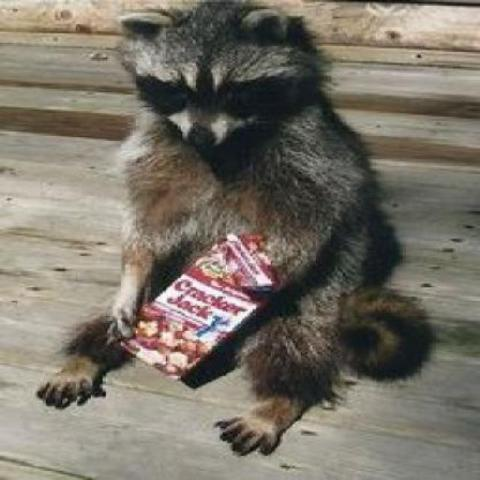small_animal: (38, 4, 434, 454)
